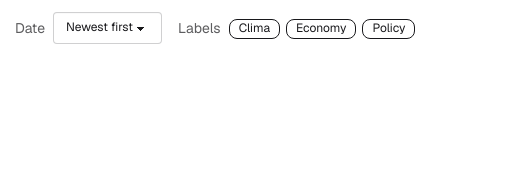
HotTopicsFilters › hides the clear control until something is active
Expected: the button "Clear filters" is not shown
Select "Oldest first" in the dropdown labelled "Date" at (108, 28), box [53, 12, 162, 44]
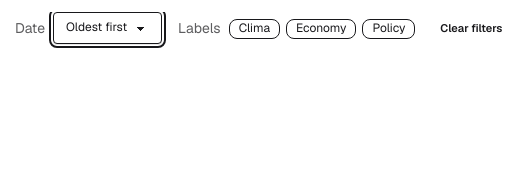
Now the button "Clear filters" is shown, box [431, 16, 511, 40]
